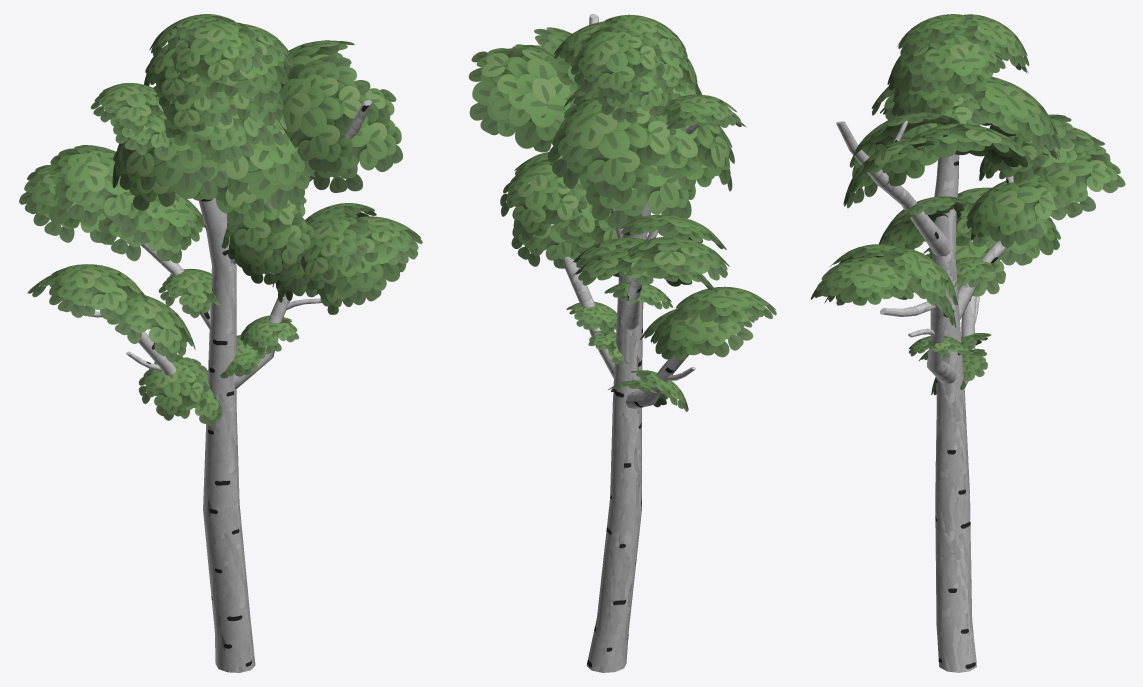
File: Birch_1.glb
3 views of the same model, side by side, from view 1: azimuth 30°, elevation 25°; view 2: azimuth 150°, elevation 25°; view 3: azimuth 270°, elevation 25° (orthographic). The views are drawn at different scales.
Parts seen in each view (by area): view 1: Birch_1_Leaves, Birch_1; view 2: Birch_1_Leaves, Birch_1; view 3: Birch_1_Leaves, Birch_1.
Part boxes in pixels (box(x1,y1,x2,y2)): Birch_1_Leaves: box(19, 14, 422, 426); Birch_1: box(70, 100, 372, 672); Birch_1_Leaves: box(468, 14, 776, 411); Birch_1: box(527, 14, 737, 672); Birch_1_Leaves: box(810, 14, 1125, 394); Birch_1: box(836, 121, 1035, 672).
Bounding box in the file's own units: 4.8 × 9.43 × 4.32.
2 materials, 2 textured.
